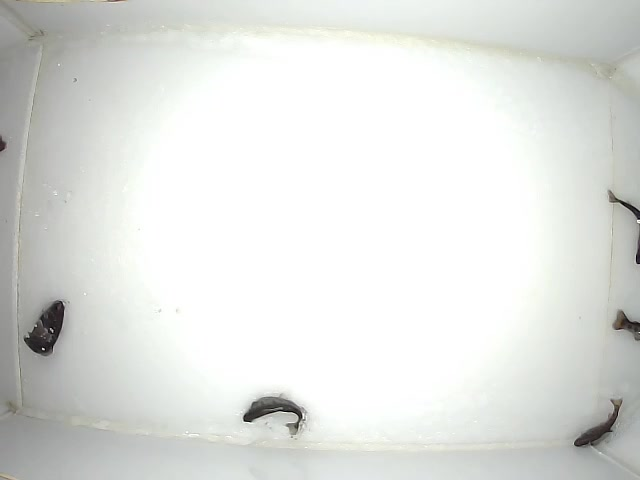fish: (570, 395, 624, 448), (240, 394, 306, 435), (22, 298, 67, 357)
